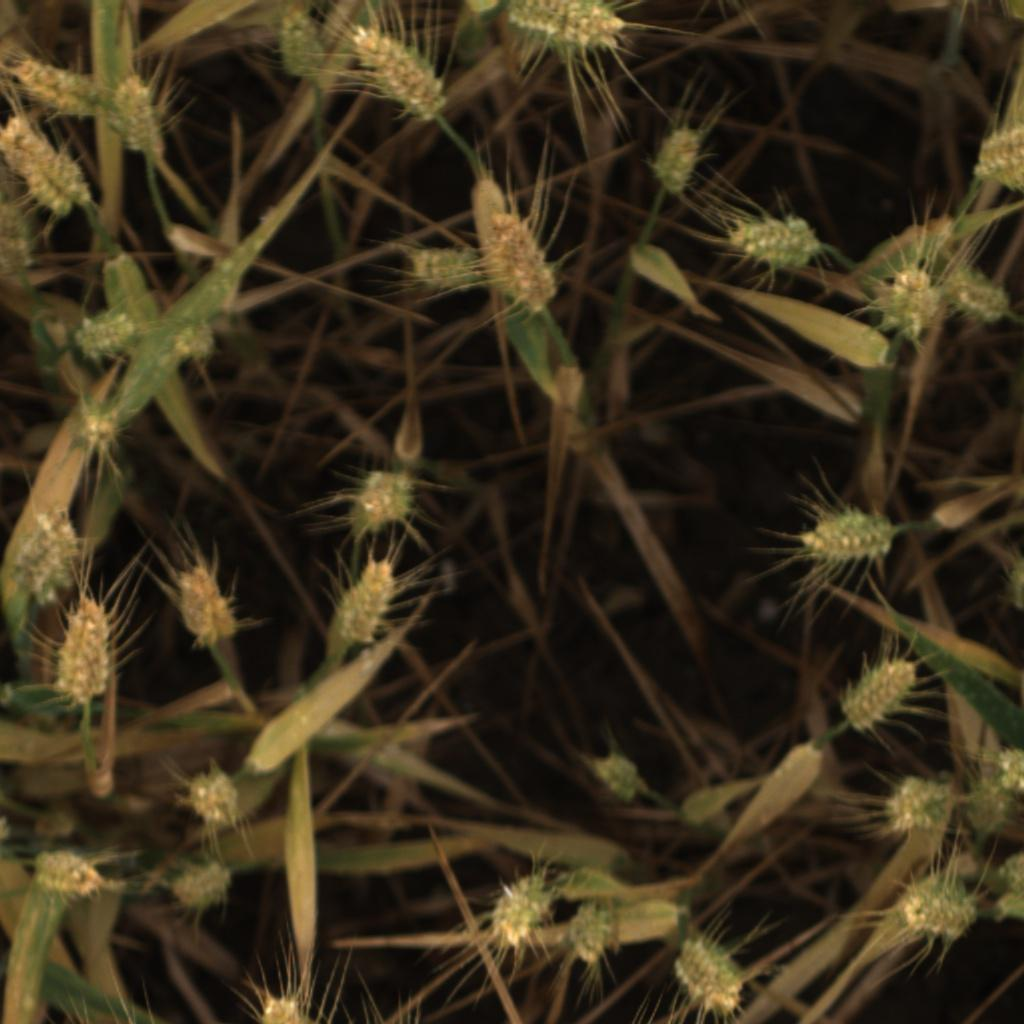0-0: (351, 19, 455, 123), (0, 118, 98, 224), (487, 205, 562, 309), (49, 594, 120, 703), (835, 656, 922, 737), (509, 2, 625, 61), (674, 934, 753, 1020), (168, 563, 245, 651), (894, 876, 980, 951), (6, 54, 106, 118), (102, 68, 171, 158), (800, 505, 895, 570), (16, 511, 81, 605), (485, 869, 555, 954), (333, 558, 398, 646), (341, 472, 425, 540), (726, 216, 819, 276), (873, 261, 943, 340), (177, 761, 251, 833), (875, 767, 951, 837), (940, 262, 1015, 328), (966, 112, 1024, 196), (24, 845, 106, 902), (64, 393, 128, 463), (649, 120, 707, 197), (275, 7, 332, 81), (165, 860, 233, 921), (411, 241, 483, 298), (72, 308, 136, 367), (584, 750, 645, 808), (0, 182, 36, 279), (564, 904, 617, 969), (956, 781, 1014, 838), (971, 740, 1023, 802), (164, 318, 223, 367), (254, 993, 306, 1024), (995, 847, 1024, 891), (991, 889, 1023, 927), (1006, 557, 1024, 613)
